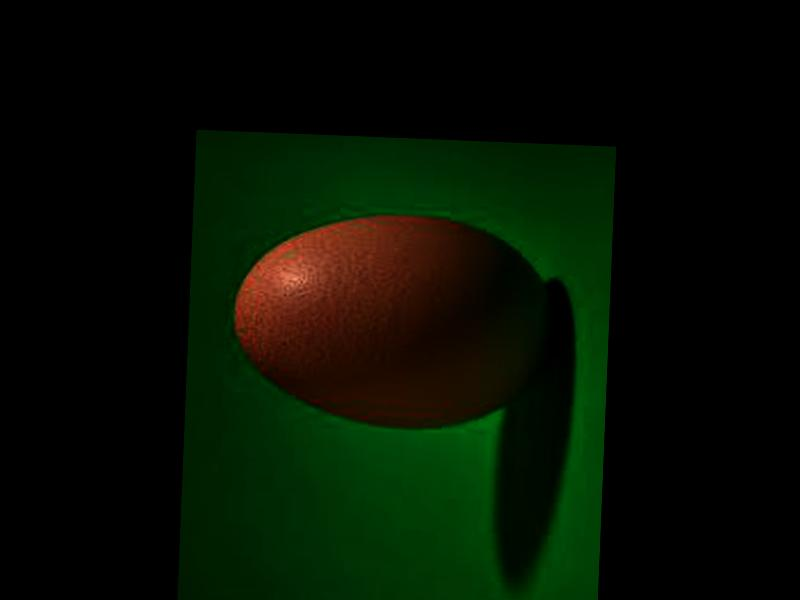Eggs: (231, 207, 558, 433)
